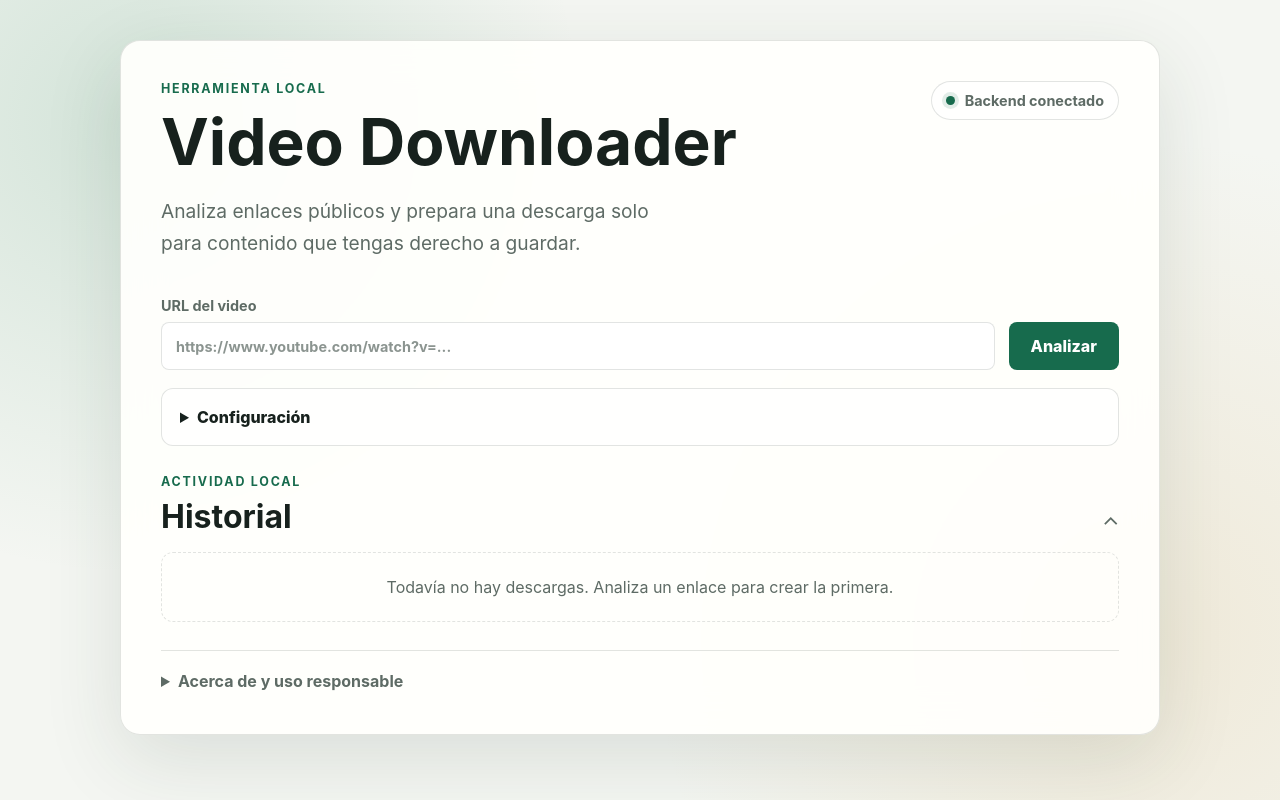
Scenario: App › shows the backend inspection error message
Type "https://example.com/demo" into the field labelled "URL del video" at coordinates (578, 346), box [161, 322, 995, 370]
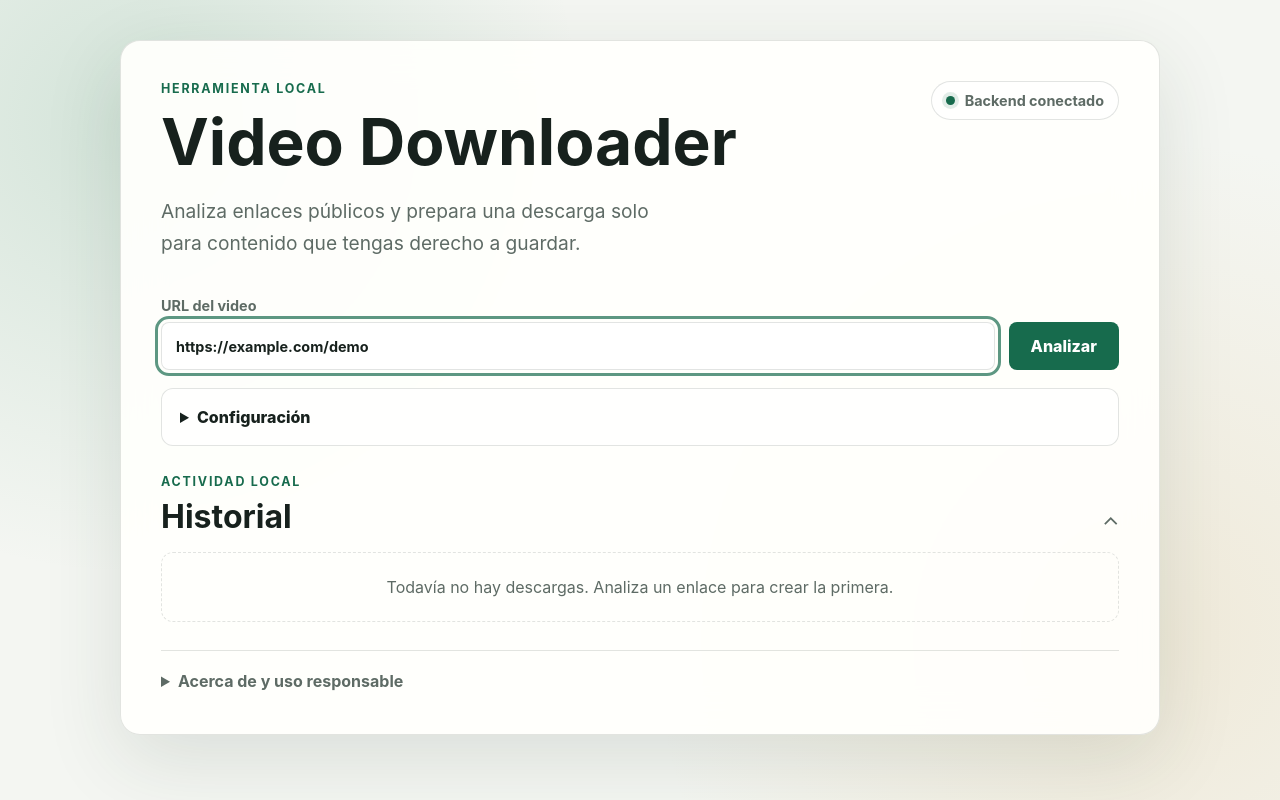
Click the button "Analizar" at coordinates (1064, 346), box [1009, 322, 1119, 370]
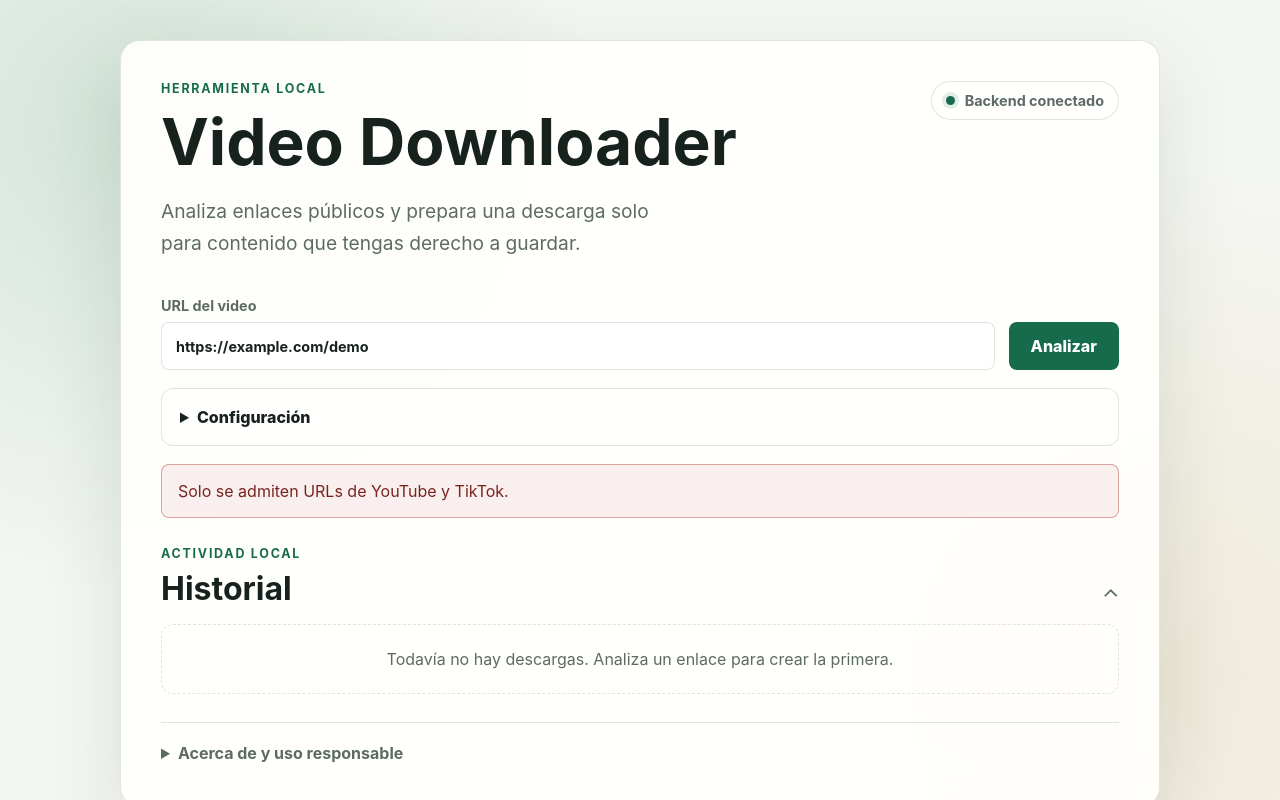
Now the message "Solo se admiten URLs de YouTube y TikTok." is shown, box [161, 464, 1119, 518]
